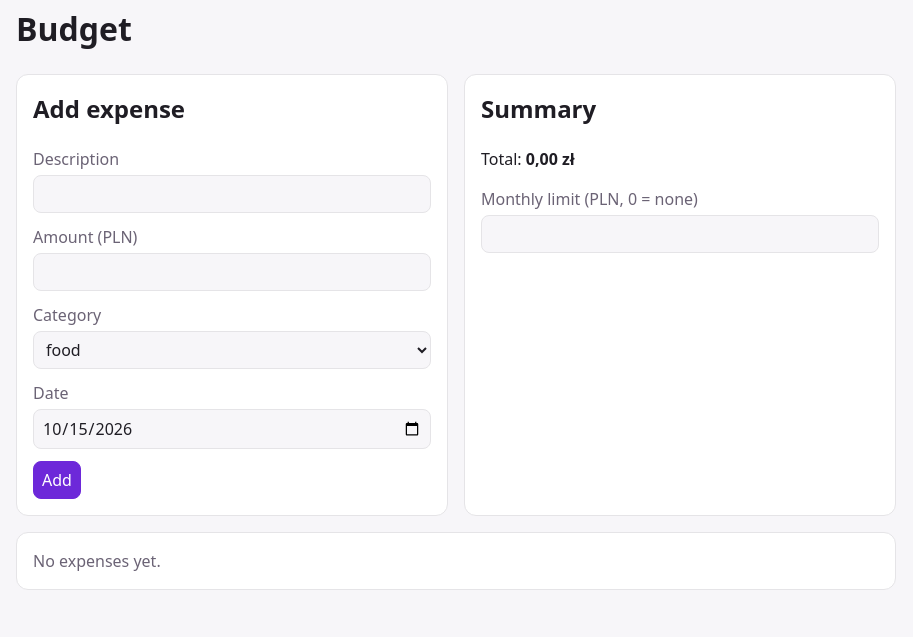
Test: App › removes an expense
In the field labelled "Description": (232, 194) [33,175,431,213], type "Taxi"
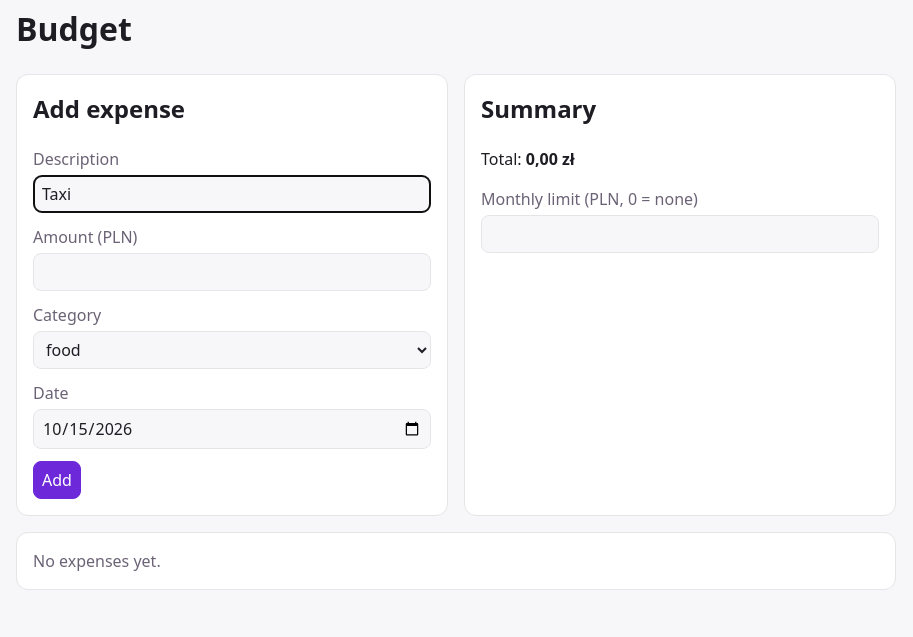
In the field labelled "Amount (PLN)": (232, 272) [33,253,431,291], type "30"
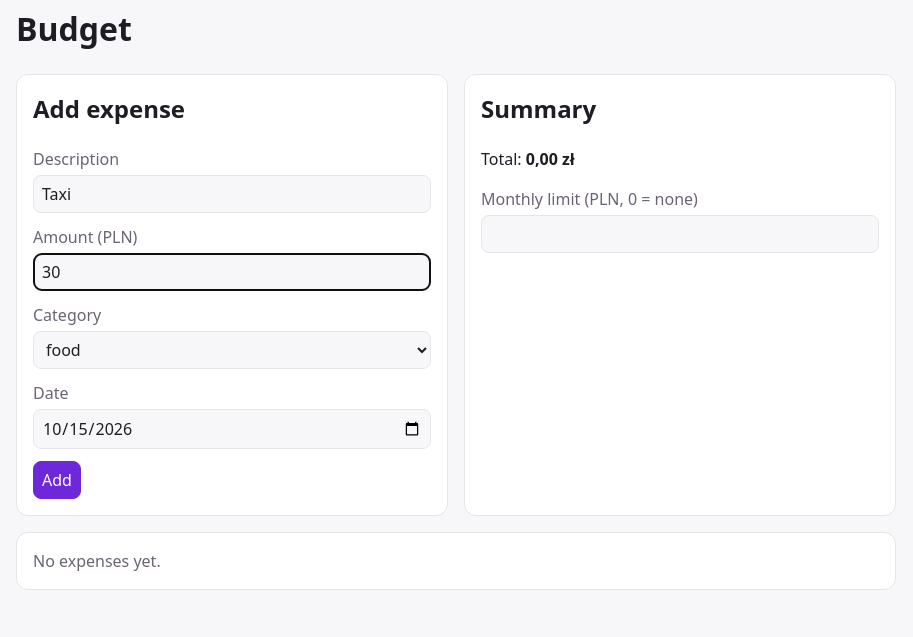
Click the button "Add": (57, 480) [33,461,81,499]
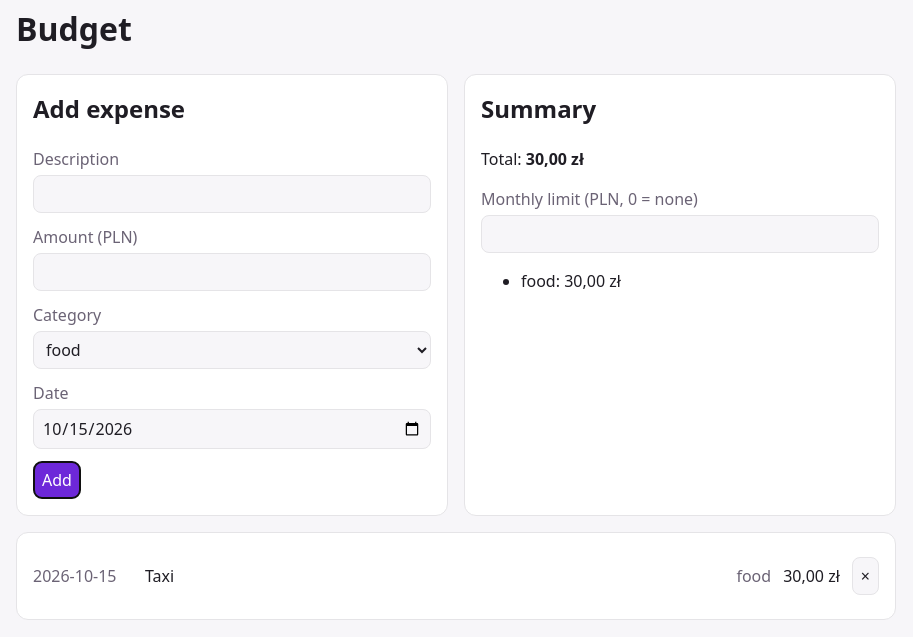
Click the button named "Remove Taxi": (865, 576) [852,557,879,595]
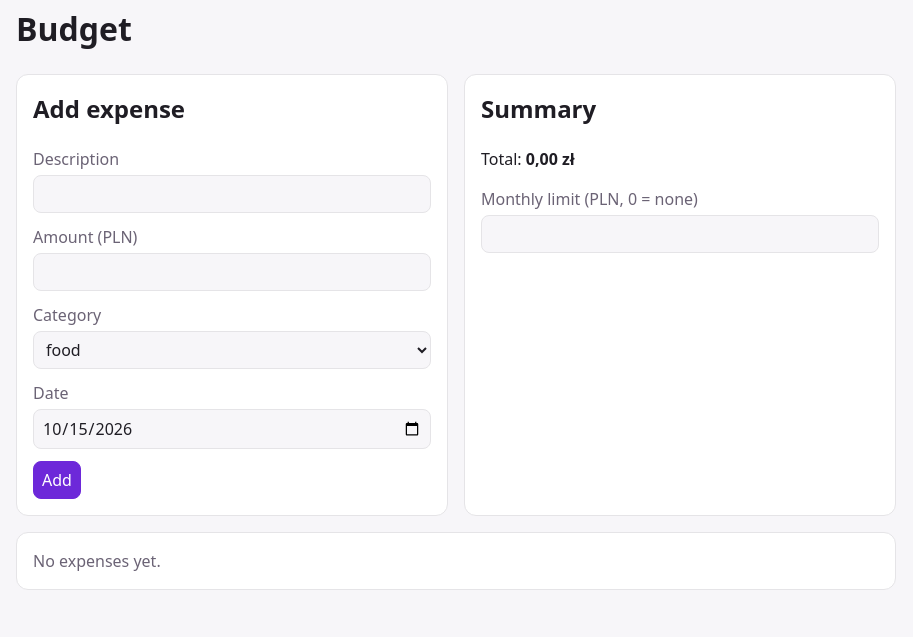
Now the text "No expenses yet." is shown, box [16,532,896,590]
